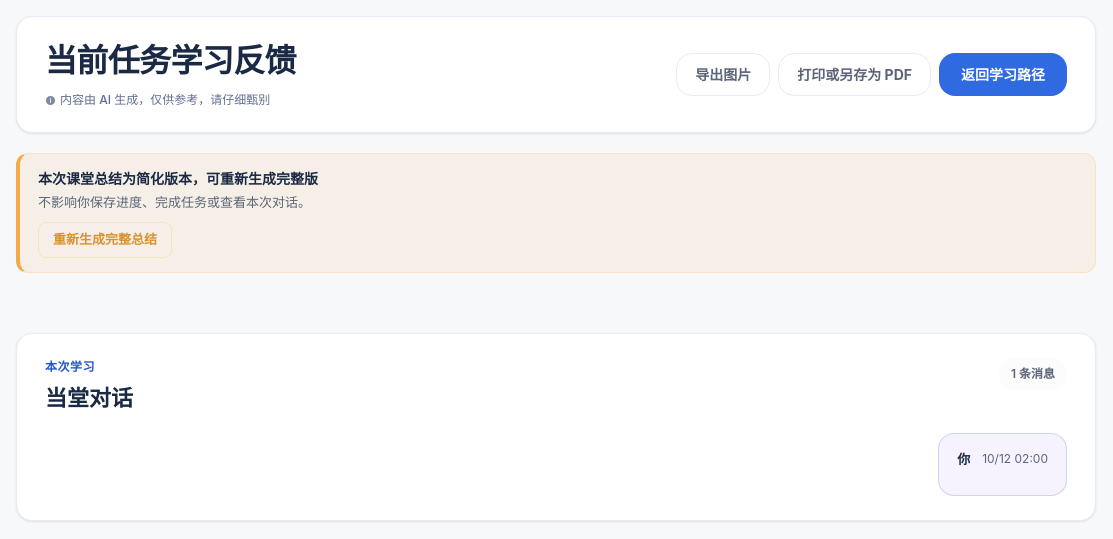
Test: LearningEvaluationPage 降级总结重试 › skipped（冷却中）不算错误，原因直接展示
The image size is (1113, 539).
Click the button with class "evaluation-degraded__retry".
click(105, 240)  # box [38,222,172,258]
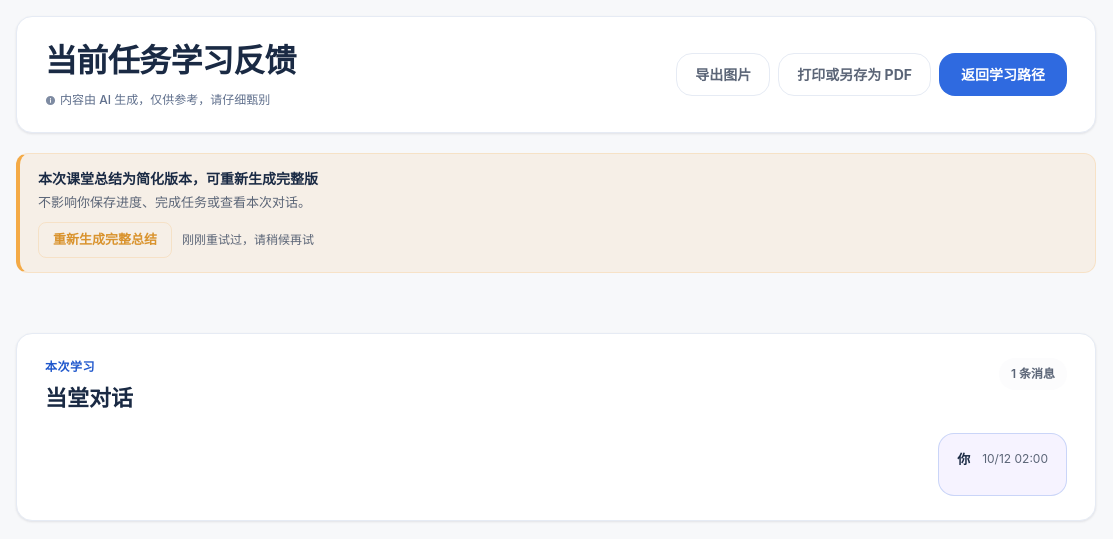
Result: the message with class "evaluation-degraded__notice" shows "刚刚重试过" at [182,232,314,247]
